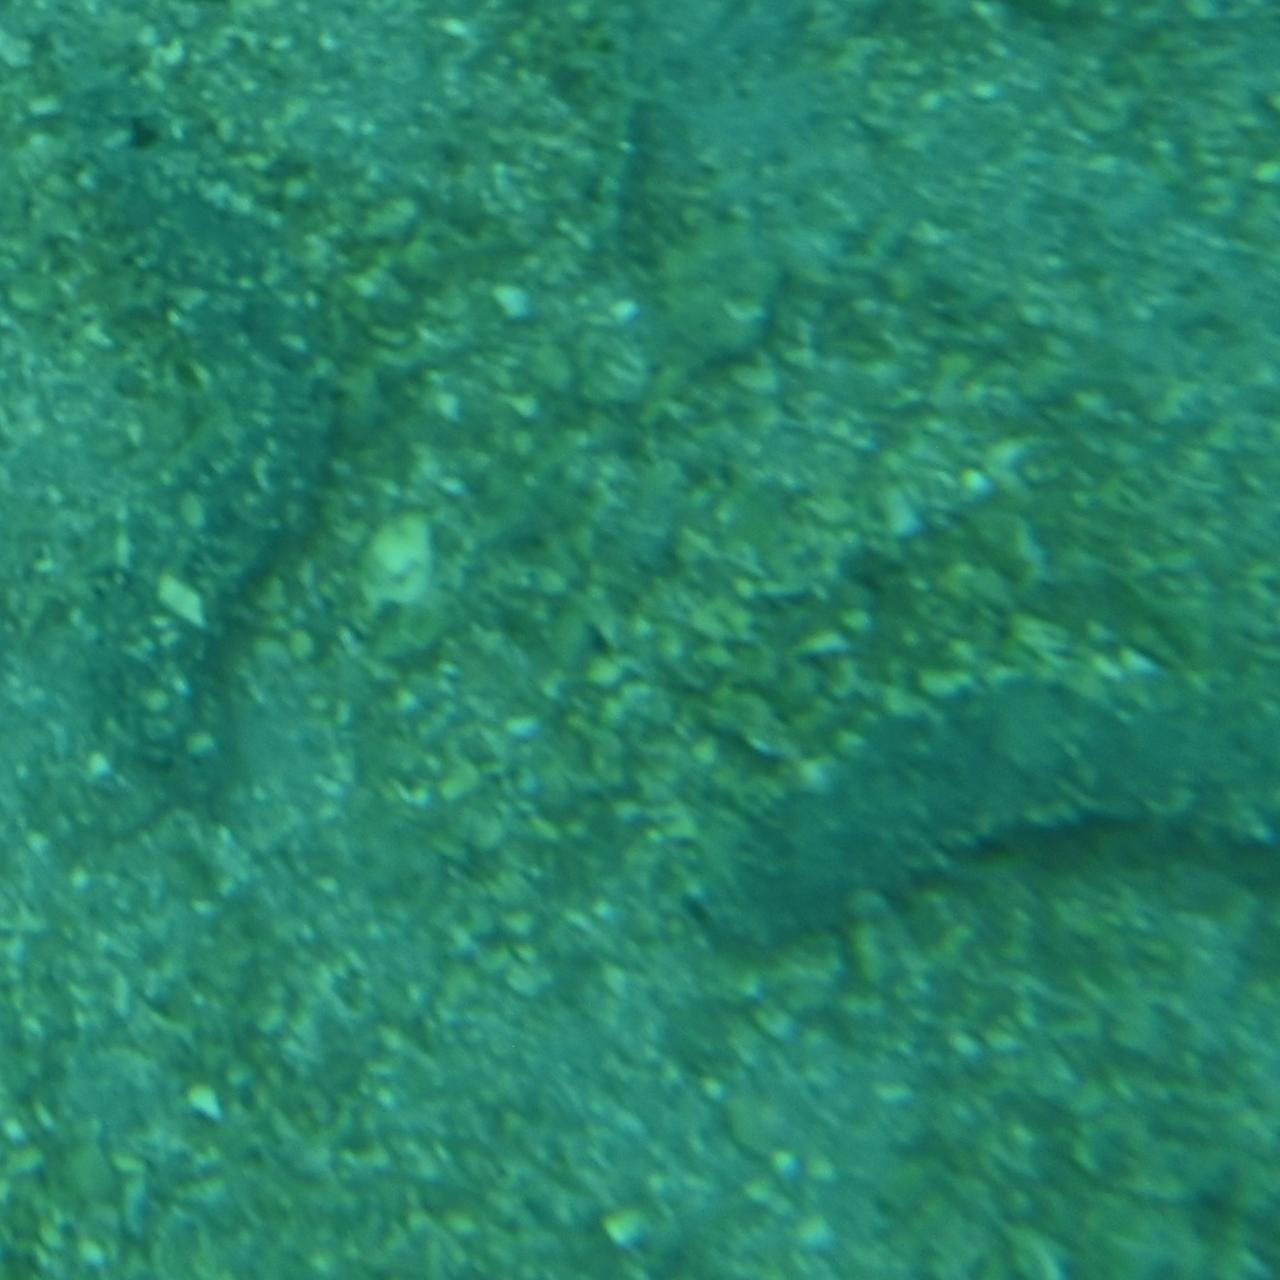Holothuria tubulosa: (686, 625, 1280, 980), (83, 124, 328, 831)
